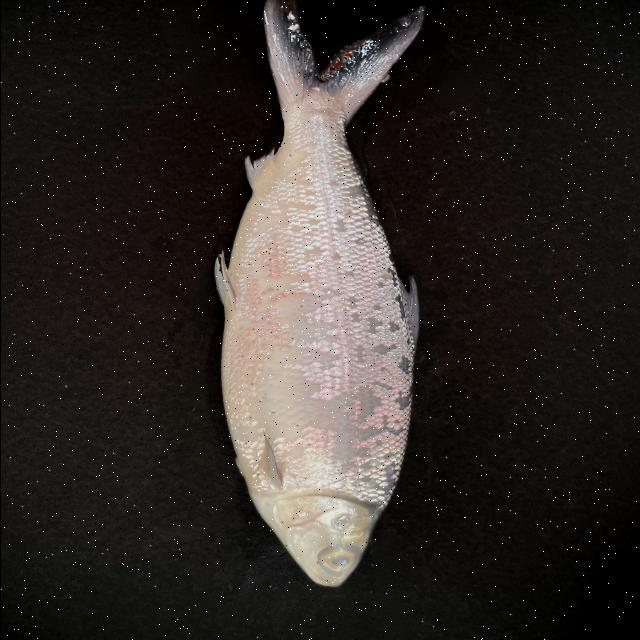1005 g: (213, 0, 424, 588)
